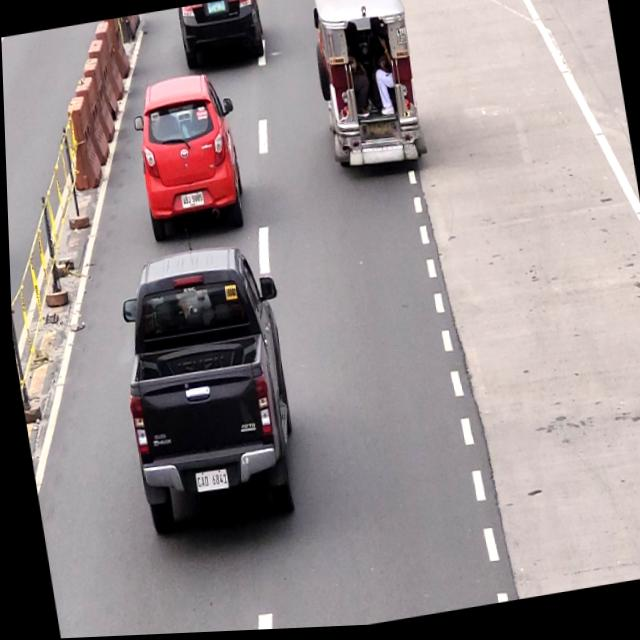Car: (106, 244, 298, 542), (128, 70, 244, 251), (176, 0, 268, 70)
Jeep: (308, 0, 424, 176)
License-Plate: (187, 467, 227, 499), (364, 121, 393, 145), (177, 191, 204, 213), (206, 2, 225, 15)
